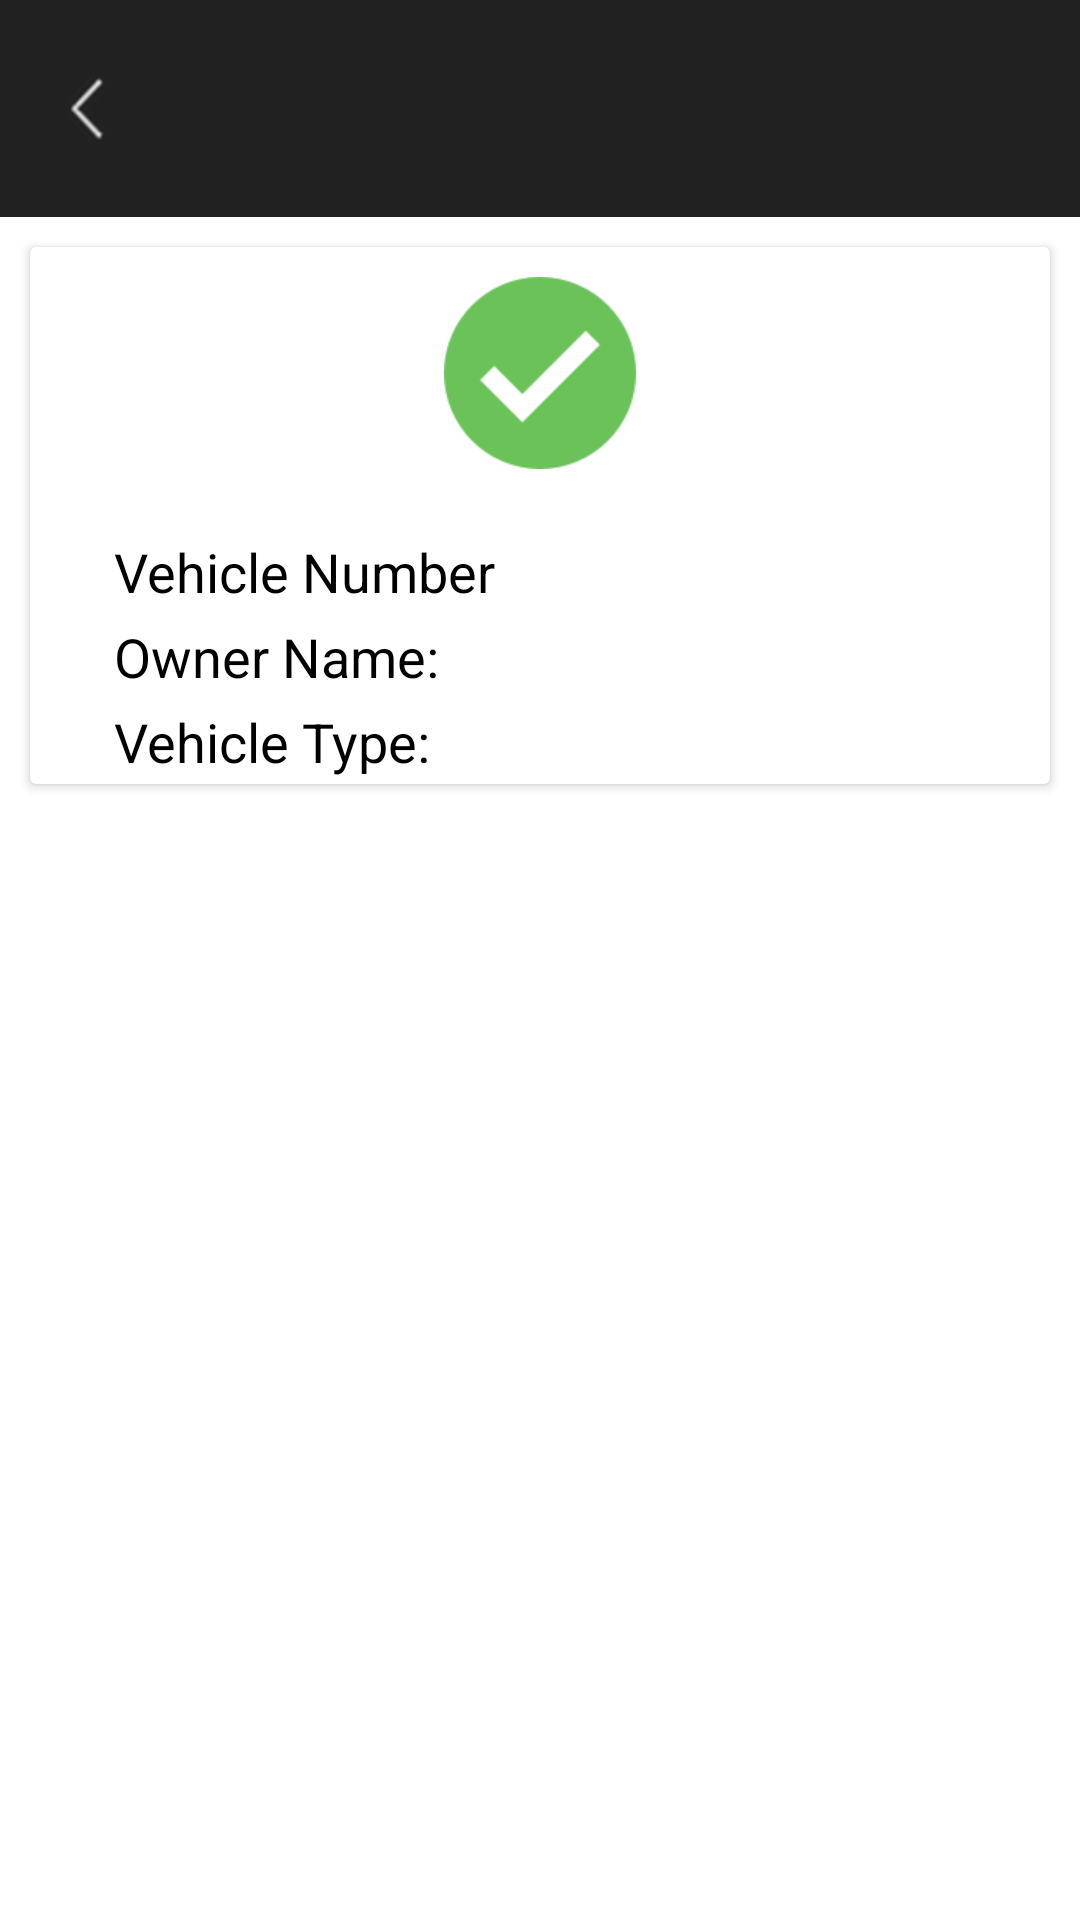

Screen size 1080px×1920px. Icon name, then its box in pixels as box=[x1, y1, x2, y2]:
Back button to navigate previous activity: box=[71, 78, 103, 139]
Image to indicate for successful visitor validation: box=[444, 277, 636, 469]
